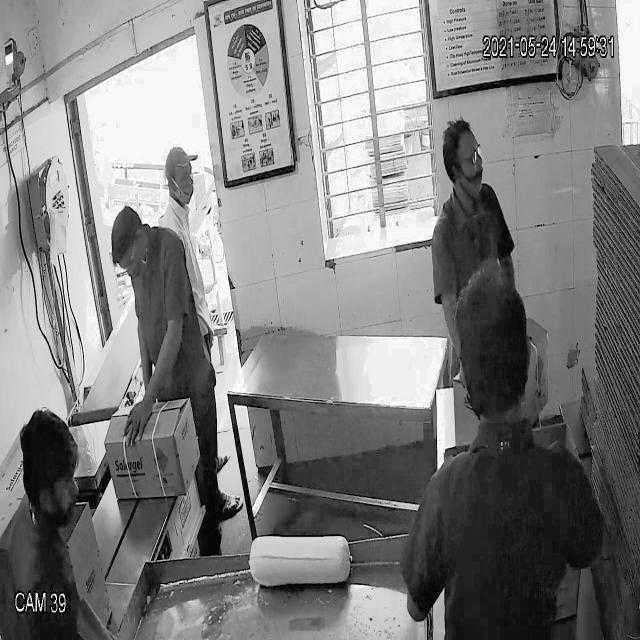glasses: (440, 143, 484, 175)
